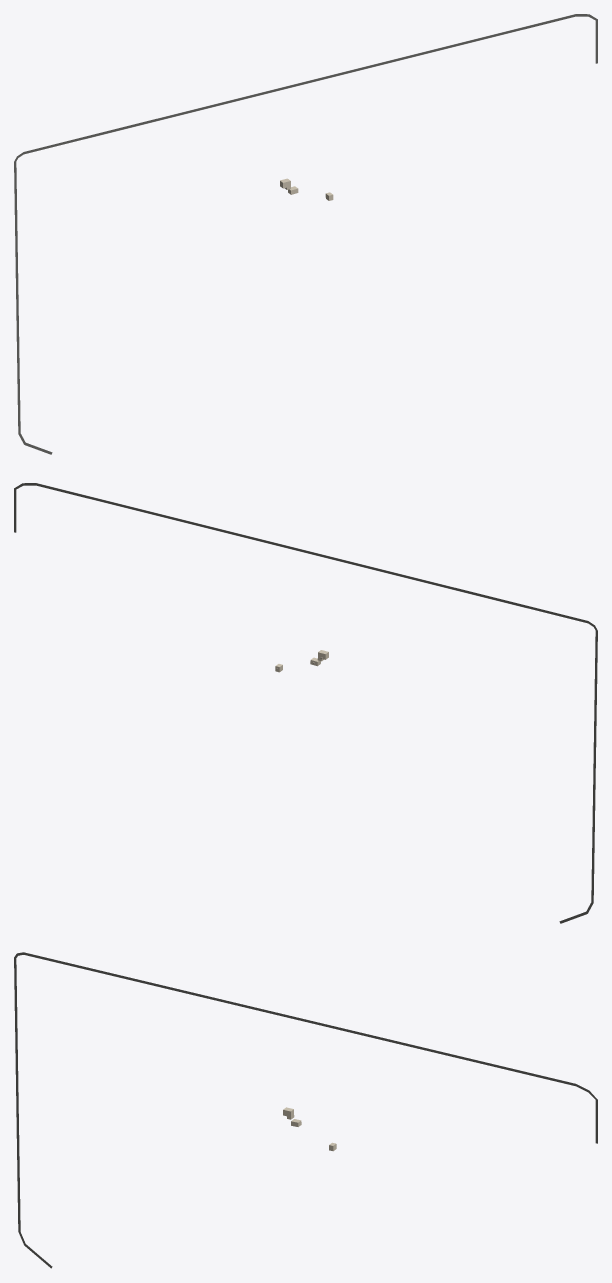
Rendered from historic-palestine-06_17_3478_3115.glb.
3 renders of one model, top to bottom at view 1: azimuth 30°, elevation 25°; view 2: azimuth 150°, elevation 25°; view 3: azimuth 330°, elevation 25°, orthographic.
Parts seen in each view (by area): view 1: Road; view 2: Road; view 3: Road.
Boxes of the visible parts, box(x1,y1,x2,y2) form: Road: box(14, 14, 597, 454); Road: box(14, 483, 597, 923); Road: box(14, 952, 597, 1268).
Size of the model in its own units: 778 by 398 by 8.7.
